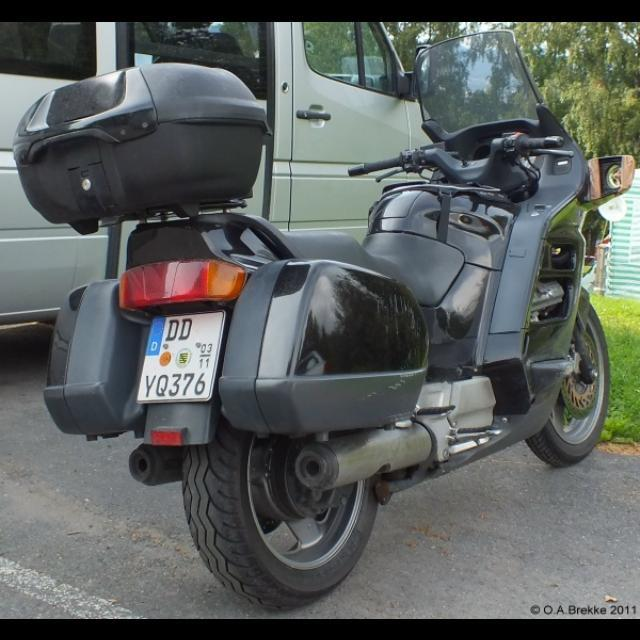license-plates: (137, 312, 225, 404)
